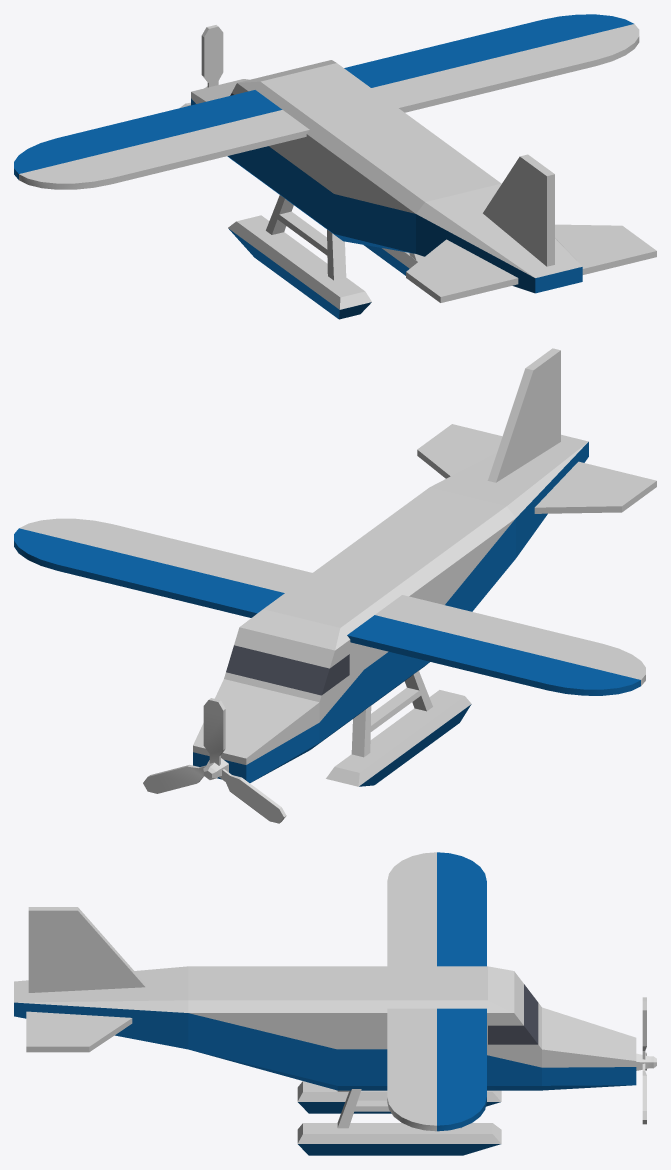
The model's file is airplane.model.fbx.
The picture shows the model from 3 angles, top to bottom: view 1: azimuth 30°, elevation 25°; view 2: azimuth 150°, elevation 25°; view 3: azimuth 270°, elevation 25°; orthographic projection. The views are drawn at different scales.
Parts seen in each view (by area): view 1: (0.0, 0.0, 0.0) (×6), plane_end_20, plane_tailPoint%_21, wind_endRound_31, wind_endRound_32, landing_float%_23, plane_cockpitClassic_14, gear_strut%_22, detail_propellerThree%_16, landing_float%_29; view 2: (0.0, 0.0, 0.0) (×6), plane_cockpitClassic_14, plane_end_20, wind_endRound_31, wind_endRound_32, plane_tailPoint%_21, landing_float%_23, detail_propellerThree%_16, gear_strut%_22; view 3: (0.0, 0.0, 0.0) (×5), plane_end_20, plane_cockpitClassic_14, plane_tailPoint%_21, landing_float%_29, wind_endRound_32, wind_endRound_31, landing_float%_23, gear_strut%_22, detail_propellerThree%_16.
Boxes of the visible parts, left/top/right/bottom form: (0.0, 0.0, 0.0) (×6): left=122, top=35, right=656, bottom=302; plane_end_20: left=334, top=123, right=501, bottom=253; plane_tailPoint%_21: left=416, top=183, right=582, bottom=293; wind_endRound_31: left=14, top=122, right=176, bottom=189; wind_endRound_32: left=477, top=14, right=639, bottom=81; landing_float%_23: left=228, top=215, right=371, bottom=319; plane_cockpitClassic_14: left=191, top=60, right=350, bottom=189; gear_strut%_22: left=266, top=195, right=424, bottom=280; detail_propellerThree%_16: left=179, top=25, right=223, bottom=108; landing_float%_29: left=364, top=245, right=420, bottom=275; (0.0, 0.0, 0.0) (×6): left=123, top=348, right=656, bottom=715; plane_cockpitClassic_14: left=193, top=598, right=363, bottom=782; plane_end_20: left=347, top=487, right=515, bottom=611; wind_endRound_31: left=482, top=627, right=645, bottom=695; wind_endRound_32: left=14, top=518, right=177, bottom=586; plane_tailPoint%_21: left=430, top=434, right=588, bottom=557; landing_float%_23: left=326, top=690, right=471, bottom=786; detail_propellerThree%_16: left=143, top=698, right=286, bottom=823; gear_strut%_22: left=351, top=670, right=432, bottom=757; (0.0, 0.0, 0.0) (×5): left=26, top=907, right=486, bottom=1090; plane_end_20: left=188, top=966, right=337, bottom=1090; plane_cockpitClassic_14: left=462, top=966, right=636, bottom=1090; plane_tailPoint%_21: left=14, top=966, right=188, bottom=1049; landing_float%_29: left=297, top=1123, right=501, bottom=1155; wind_endRound_32: left=387, top=1068, right=486, bottom=1131; wind_endRound_31: left=387, top=852, right=486, bottom=909; landing_float%_23: left=297, top=1081, right=501, bottom=1113; gear_strut%_22: left=337, top=1089, right=461, bottom=1128; detail_propellerThree%_16: left=636, top=997, right=656, bottom=1124.
Size of the model in its own units: 52 by 19.6 by 51.67.
